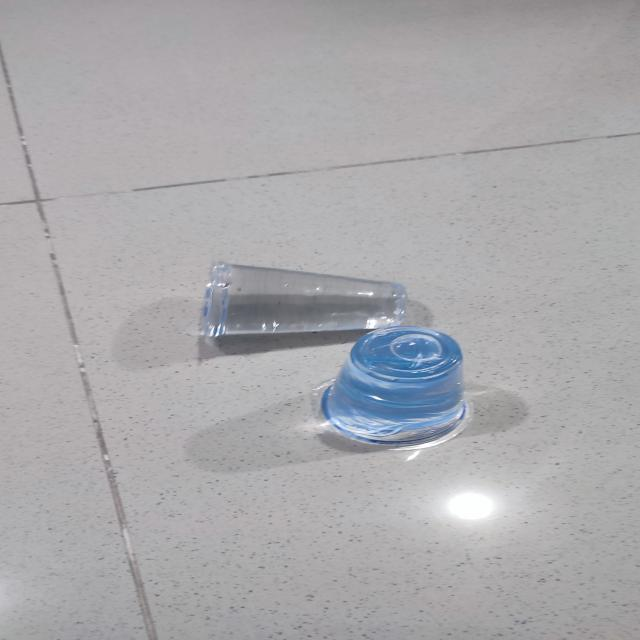air gelas: (305, 322, 488, 451), (183, 256, 419, 346)
